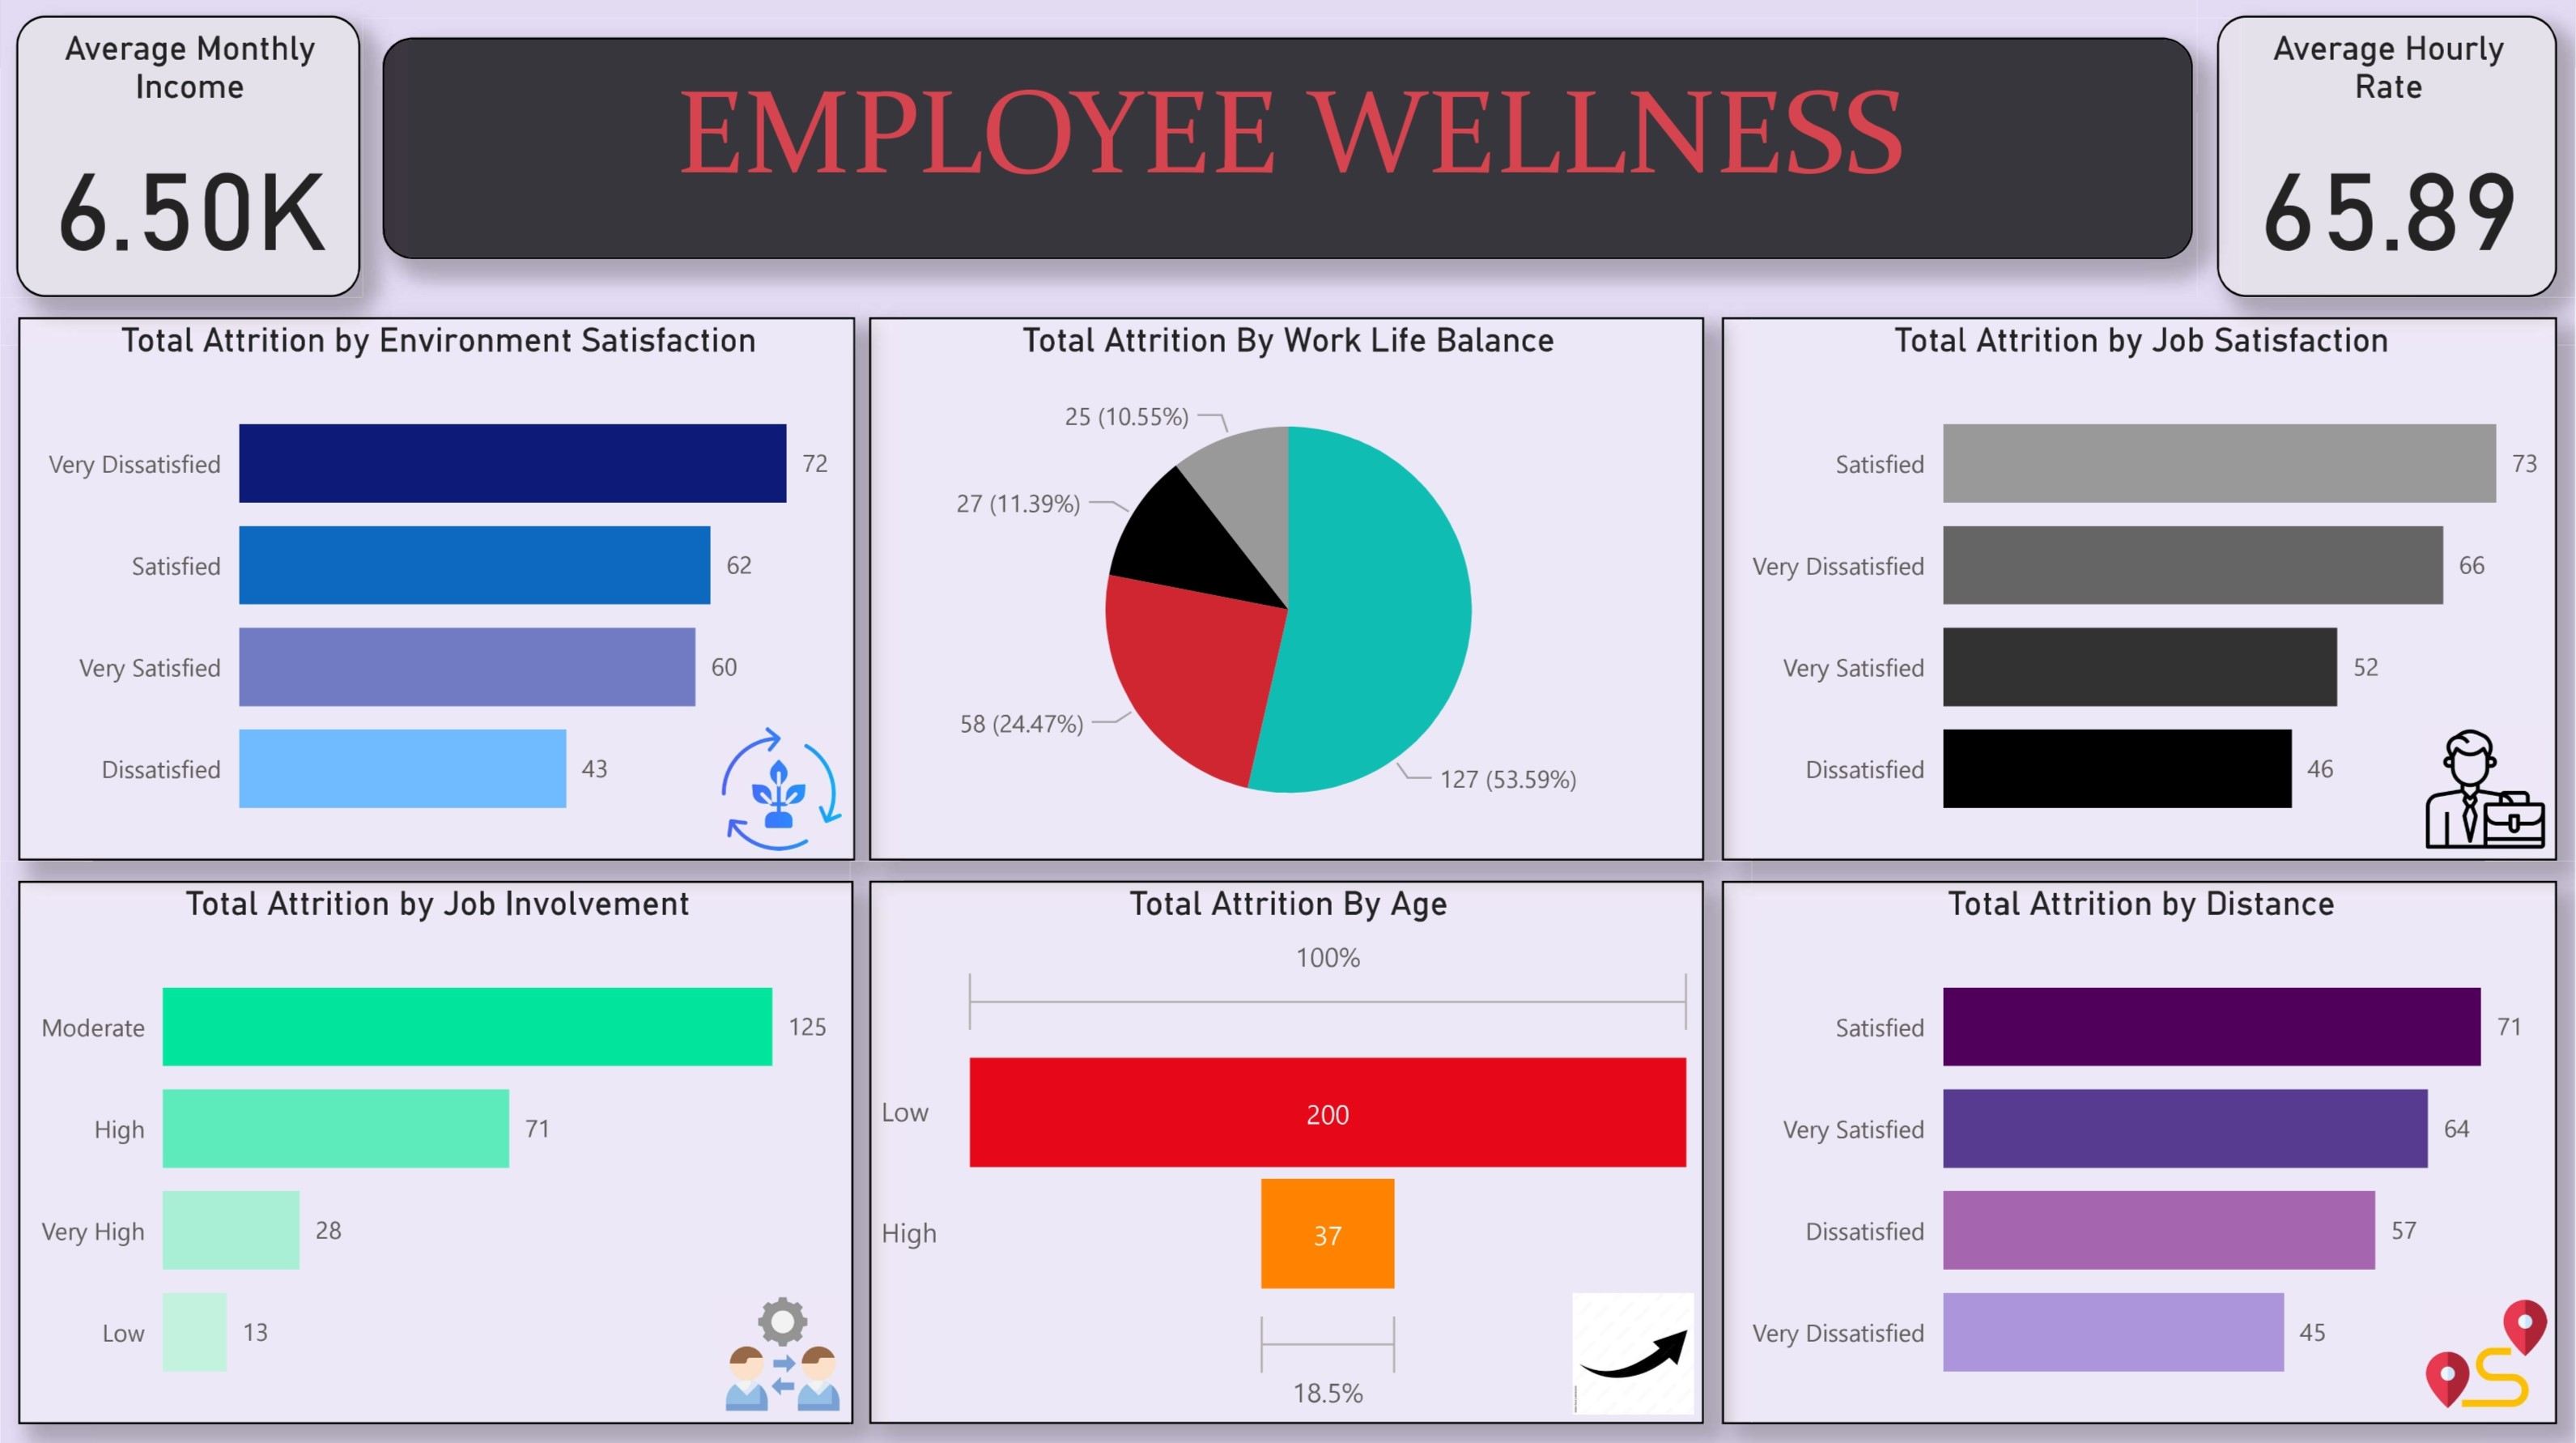

Layout of this report page (visuals, bound fields, positions):
{"tool":"powerbi","page":{"name":"Employee Wellness","canvas":[1280,720],"ordinal":4},"visuals":[{"type":"textbox","box":[190,18.5,900.3,110.1],"z":0},{"type":"card","title":"Average Monthly Income","fields":{"Values":["Avg(HR-Employee-Attrition.MonthlyIncome)"]},"box":[8.4,8.4,170.3,139.8],"z":1000},{"type":"card","title":"Average Hourly Rate","fields":{"Values":["Avg(HR-Employee-Attrition.HourlyRate)"]},"box":[1101.5,8.4,169.2,139.8],"z":2000},{"type":"barChart","title":"Total Attrition by Environment Satisfaction","fields":{"Y":["Sum(HR-Employee-Attrition.Attrition in Number)"],"Category":["HR-Employee-Attrition.EnvironmentSatisfaction (groups)"]},"box":[9.5,157.7,415.2,270.1],"z":3000},{"type":"barChart","title":"Total Attrition by Job Satisfaction","fields":{"Y":["Sum(HR-Employee-Attrition.Attrition in Number)"],"Category":["HR-Employee-Attrition.JobSatisfaction (groups)"]},"box":[855.6,157.7,415.2,270.1],"z":4000},{"type":"pieChart","title":"Total Attrition By Work Life Balance","fields":{"Y":["Sum(HR-Employee-Attrition.Attrition in Number)"],"Category":["HR-Employee-Attrition.WorkLifeBalance (groups)"]},"box":[432,157.7,415.2,270.1],"z":5000},{"type":"barChart","title":"Total Attrition by Job Involvement","fields":{"Category":["HR-Employee-Attrition.JobInvolvement (groups)"],"Y":["Sum(HR-Employee-Attrition.Attrition in Number)"]},"box":[9.5,438.3,414.1,270.1],"z":6000},{"type":"barChart","title":"Total Attrition by Distance","fields":{"Y":["Sum(HR-Employee-Attrition.Attrition in Number)"],"Category":["HR-Employee-Attrition.RelationshipSatisfaction (groups)"]},"box":[855.6,438.3,415.2,270.1],"z":7000},{"type":"funnel","title":"Total Attrition By Age","fields":{"Y":["Sum(HR-Employee-Attrition.Attrition in Number)"],"Category":["HR-Employee-Attrition.PerformanceRating (groups)"]},"box":[432,438.3,415.2,270.1],"z":8000},{"type":"image","box":[776.8,638,70.4,70.4],"z":8001},{"type":"image","box":[1200.4,638,70.4,70.4],"z":8002},{"type":"image","box":[353.2,638,70.4,70.4],"z":8003},{"type":"image","box":[353.2,357.4,70.4,70.4],"z":8004},{"type":"image","box":[1200.4,357.4,70.4,70.4],"z":8005}]}

Visuals, with their boxes in screenshot pixels (x1, y1, x2, y2), scaled from the page's 1280x720 canvas onto the 2576x1443 screenshot:
textbox: region(382, 37, 2194, 258)
"Average Monthly Income" card: region(17, 17, 359, 297)
"Average Hourly Rate" card: region(2217, 17, 2557, 297)
"Total Attrition by Environment Satisfaction" barChart: region(19, 316, 855, 858)
"Total Attrition by Job Satisfaction" barChart: region(1722, 316, 2557, 858)
"Total Attrition By Work Life Balance" pieChart: region(869, 316, 1705, 858)
"Total Attrition by Job Involvement" barChart: region(19, 879, 852, 1420)
"Total Attrition by Distance" barChart: region(1722, 879, 2557, 1420)
"Total Attrition By Age" funnel: region(869, 879, 1705, 1420)
image: region(1563, 1279, 1705, 1420)
image: region(2416, 1279, 2557, 1420)
image: region(711, 1279, 852, 1420)
image: region(711, 717, 852, 858)
image: region(2416, 717, 2557, 858)
